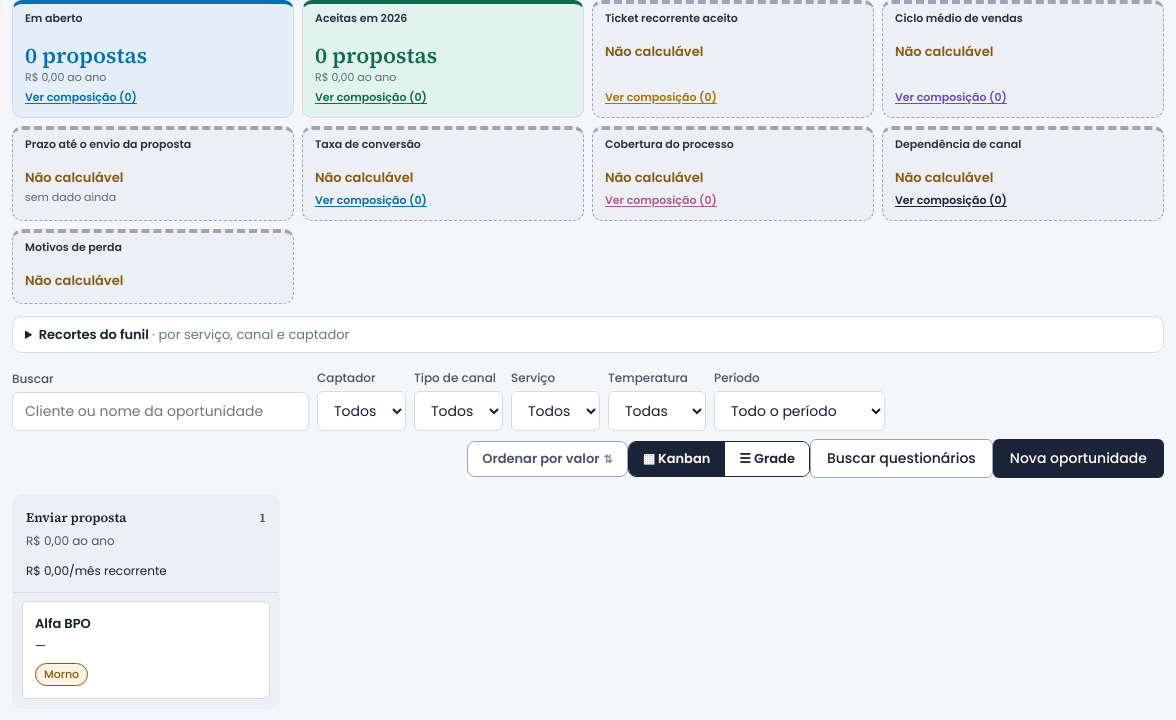
Test: fusão Kanban/Grade (27/09/2026) › troca para Grade: busca as oportunidades e mostra a tabela, com o filtro Situação
Expected: the text "Enviar proposta" is shown, [26,508,126,528]
Click the button "☰ Grade" at (767, 459), box [725,442,809,476]
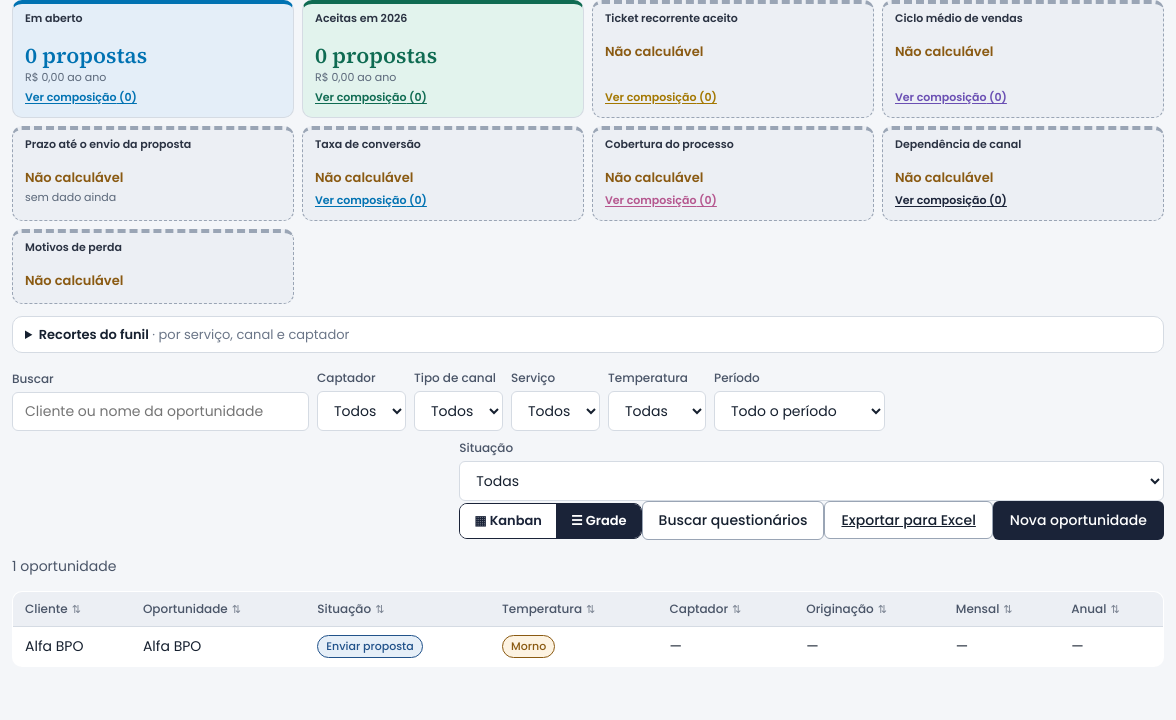
Expected: the table is shown, [12,591,1164,667]
Expected: the dropdown labelled "Situação" is shown, [459,461,1164,501]
Expected: the text "1 oportunidade" is shown, [12,556,116,576]
